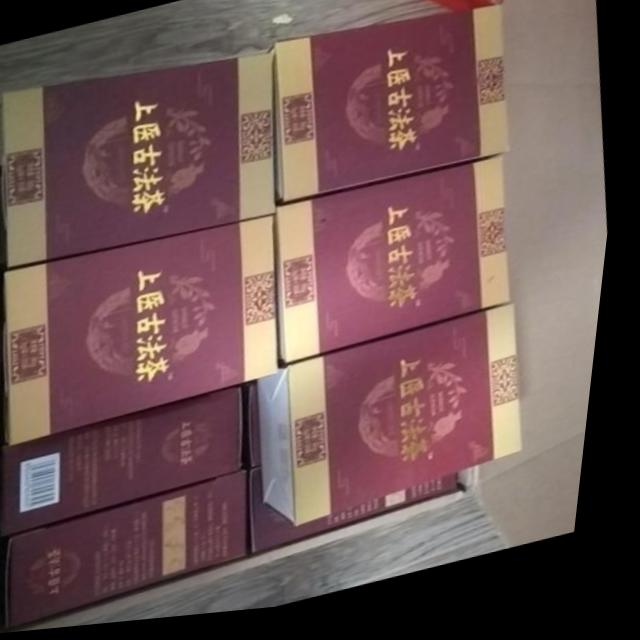box: (10, 220, 286, 447), (267, 313, 535, 534), (4, 57, 281, 269), (282, 165, 520, 372), (266, 13, 514, 211), (18, 476, 260, 632), (15, 391, 253, 538), (262, 473, 471, 561)
